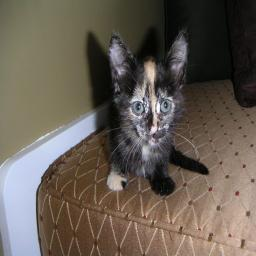catnose: (146, 120, 160, 136)
